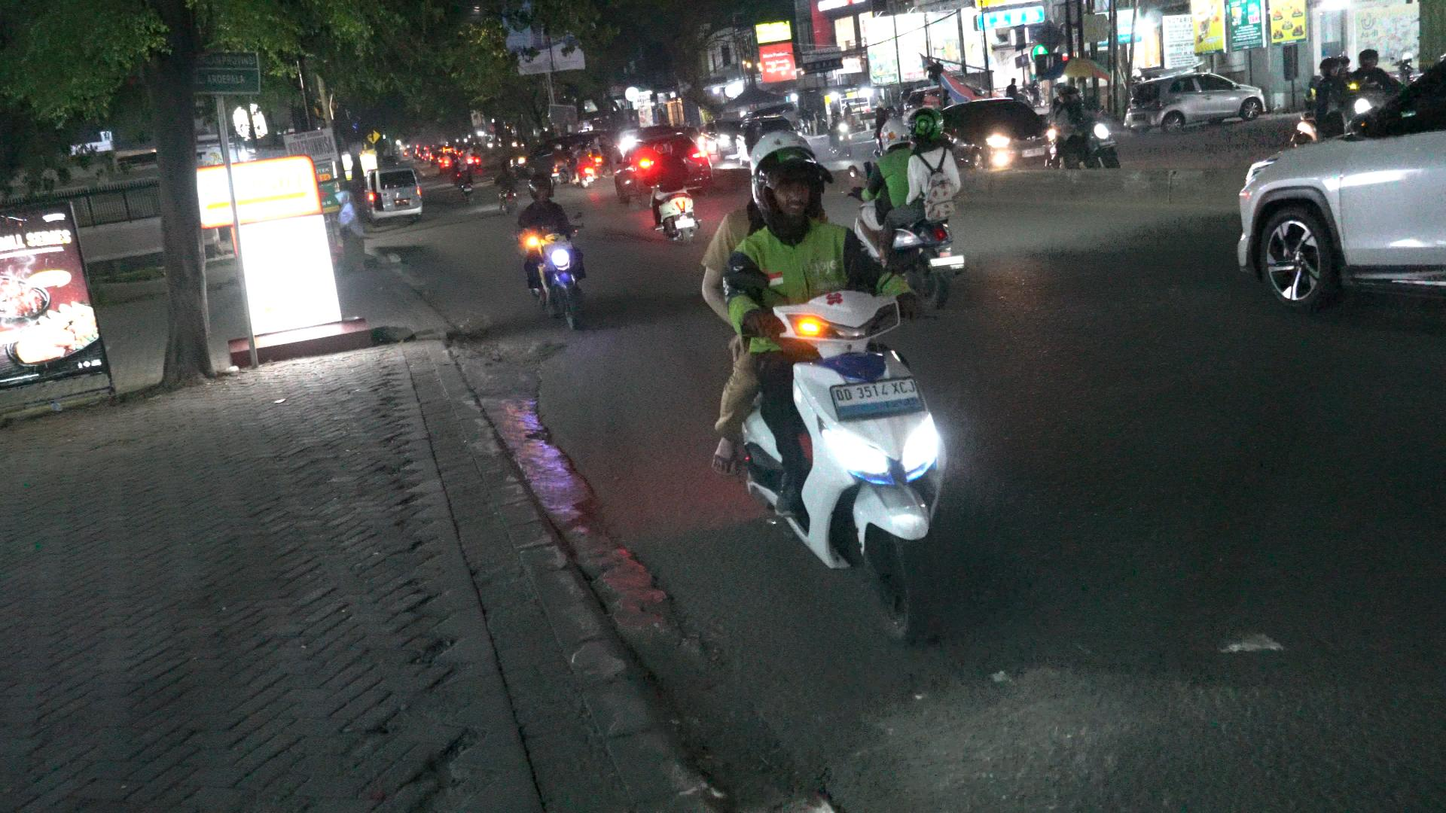number-plate: (825, 373, 928, 423)
